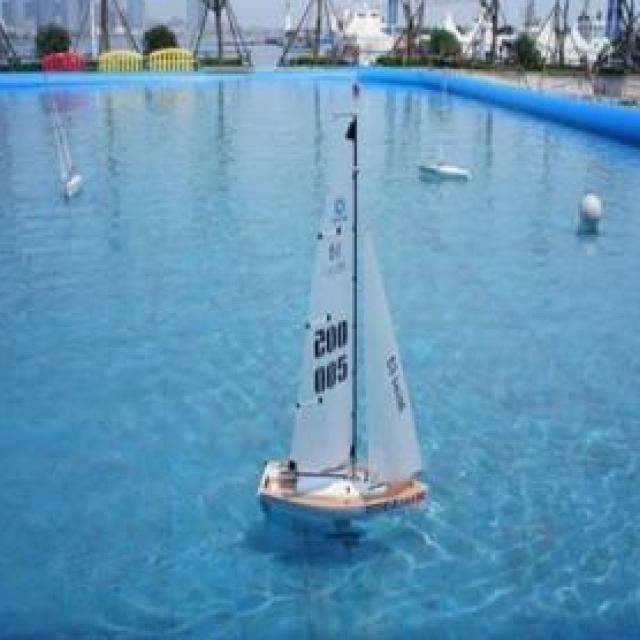sailboat: (248, 73, 430, 519), (46, 94, 92, 201)
